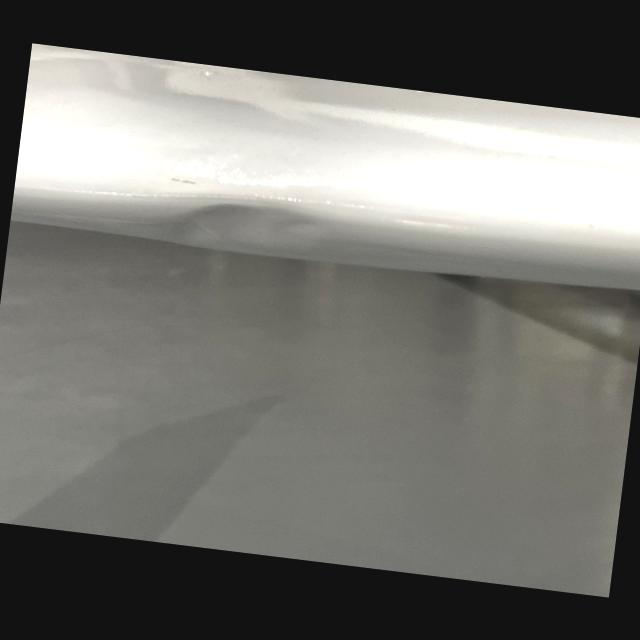dent: (163, 192, 333, 257)
